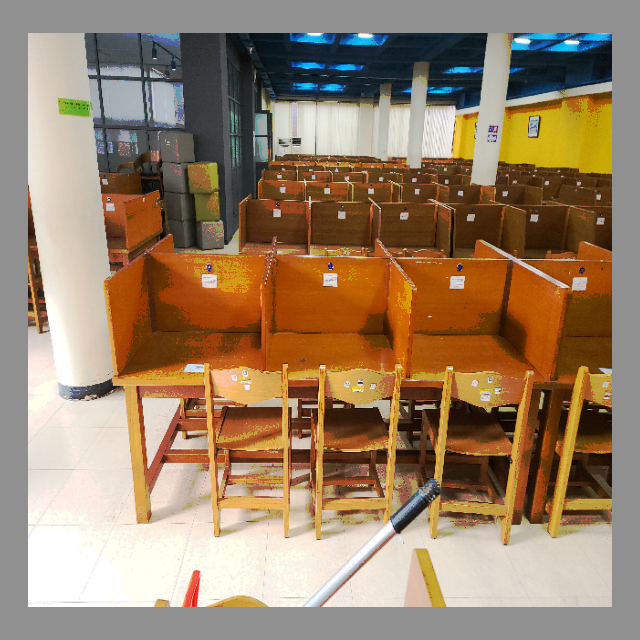empty: (114, 257, 265, 446), (414, 255, 549, 452), (270, 252, 408, 443)
